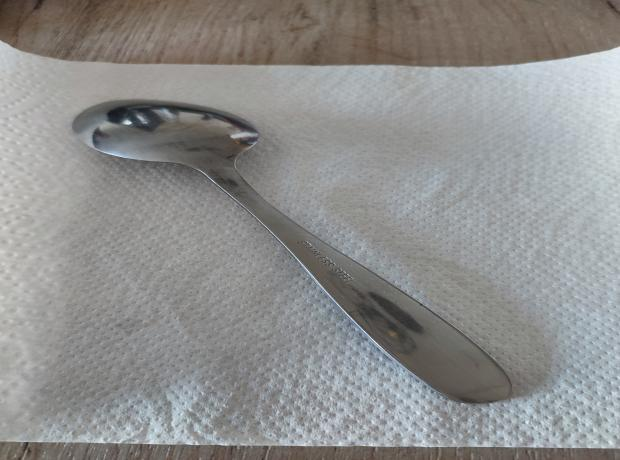metal: (70, 98, 520, 404)
